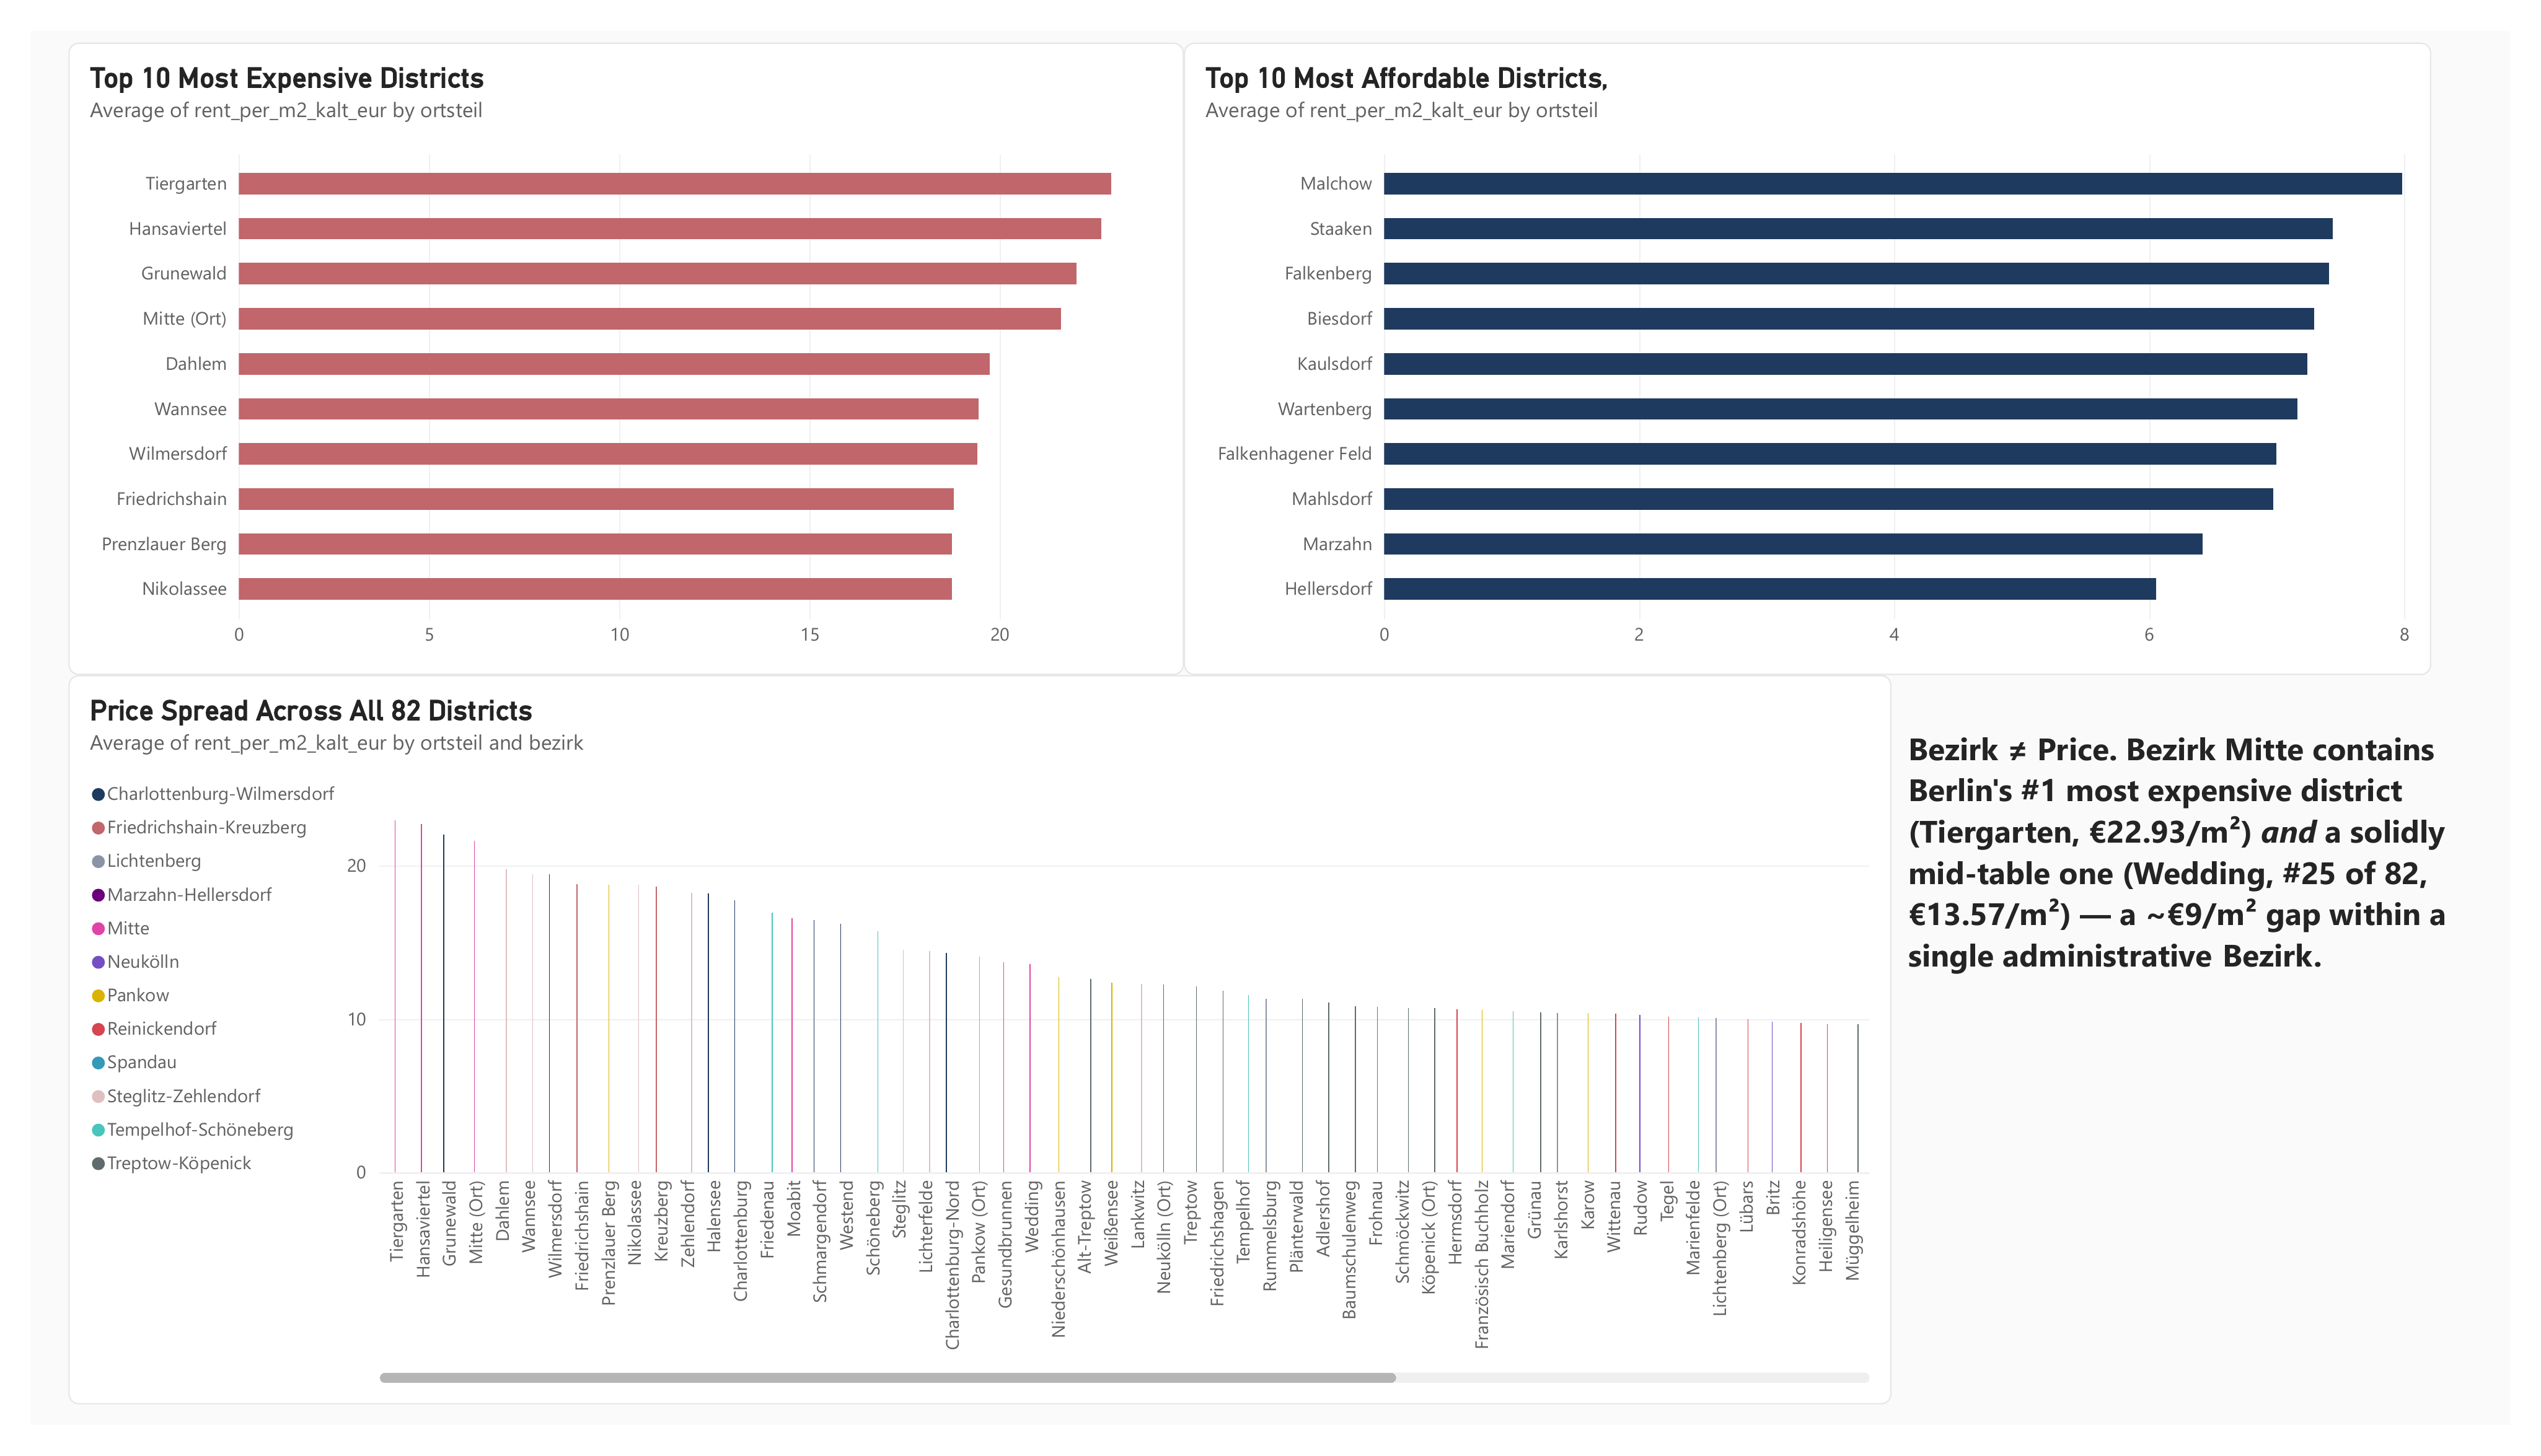

What the dashboard file says about the page in this screenshot:
{"tool":"powerbi","page":{"name":"Neighbourhood Comparison","canvas":[1920,1080],"ordinal":1},"visuals":[{"type":"clusteredBarChart","title":"Top 10 Most Expensive Districts","fields":{"Category":["Ortsteil.ortsteil"],"Y":["Avg(rentals.rent_per_m2_kalt_eur)"]},"box":[29.4,9.2,863.2,489.6],"z":0},{"type":"barChart","title":"Top 10 Most Affordable Districts,","fields":{"Category":["Ortsteil.ortsteil"],"Y":["Avg(rentals.rent_per_m2_kalt_eur)"]},"box":[892.6,9.2,966.3,489.6],"z":3},{"type":"clusteredColumnChart","title":"Price Spread Across All 82 Districts","fields":{"Category":["Ortsteil.ortsteil"],"Series":["kiez_prices_monthly.bezirk"],"Y":["Avg(rentals.rent_per_m2_kalt_eur)"]},"box":[29.4,498.8,1411.7,565],"z":4},{"type":"textbox","box":[1454,539.3,436.2,242.9],"z":5}]}

Visuals, with their boxes on the page's 1920x1080 design canvas (x1, y1, x2, y2). These are canvas units, not pixel positions in the 2541x1456 screenshot, which may show the page scaled, cropped or inside an application window:
"Top 10 Most Expensive Districts" clusteredBarChart: (x1=29, y1=9, x2=893, y2=499)
"Top 10 Most Affordable Districts," barChart: (x1=893, y1=9, x2=1859, y2=499)
"Price Spread Across All 82 Districts" clusteredColumnChart: (x1=29, y1=499, x2=1441, y2=1064)
textbox: (x1=1454, y1=539, x2=1890, y2=782)
